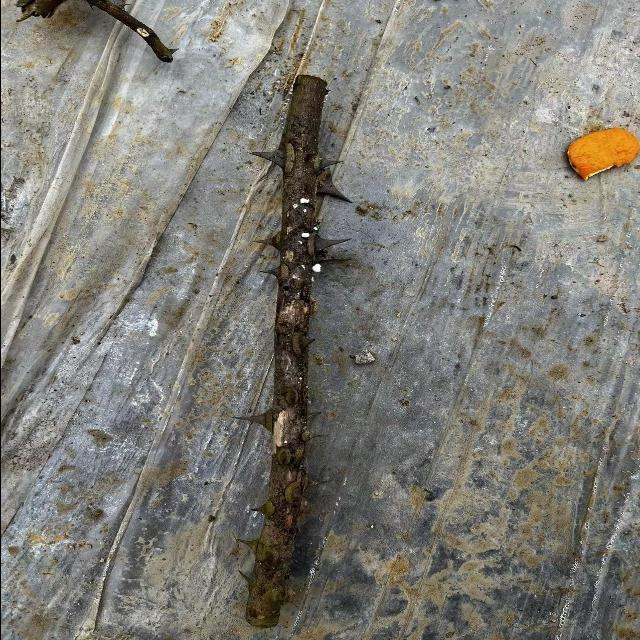branch: (248, 73, 325, 625)
